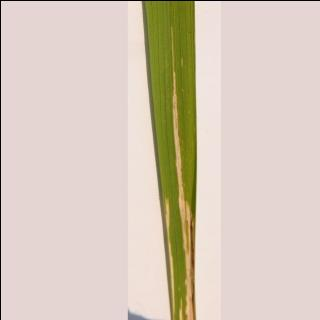Hawar-Daun: (166, 58, 202, 320)
